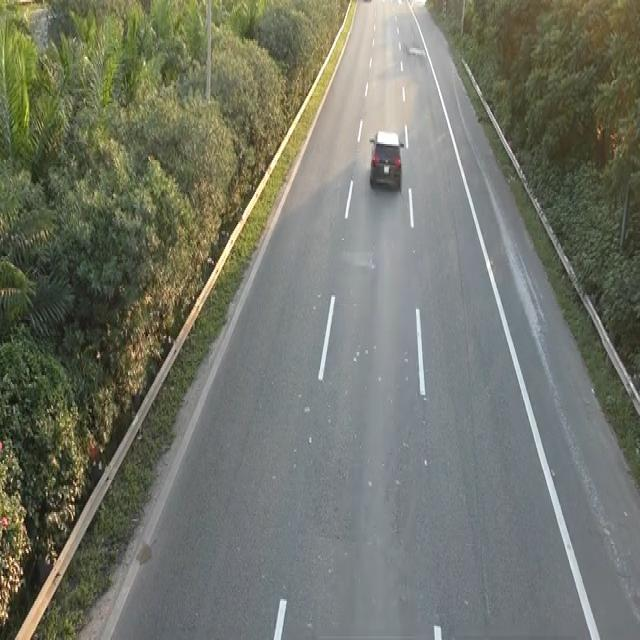car: (367, 126, 404, 192)
